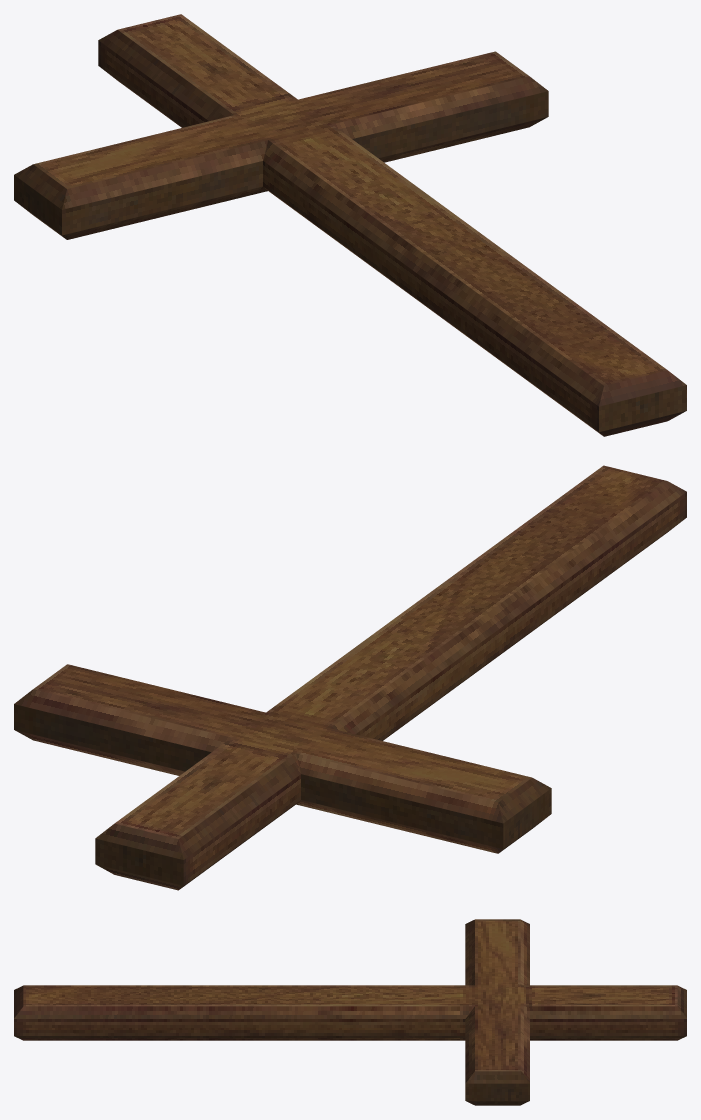
Rendered from cross_mp_2.glb.
3 views of the same model, one above another, from view 1: azimuth 30°, elevation 25°; view 2: azimuth 150°, elevation 25°; view 3: azimuth 270°, elevation 25° (orthographic). The views are drawn at different scales.
Visible parts, largest first — view 1: cross_mp_2; view 2: cross_mp_2; view 3: cross_mp_2.
Part boxes in pixels (x1,y1,x2,y2): cross_mp_2: [14, 14, 686, 436]; cross_mp_2: [14, 465, 686, 890]; cross_mp_2: [14, 919, 686, 1105].
Bounding box in the file's own units: 0.2695 × 0.027 × 0.48.
1 material, 1 textured.
